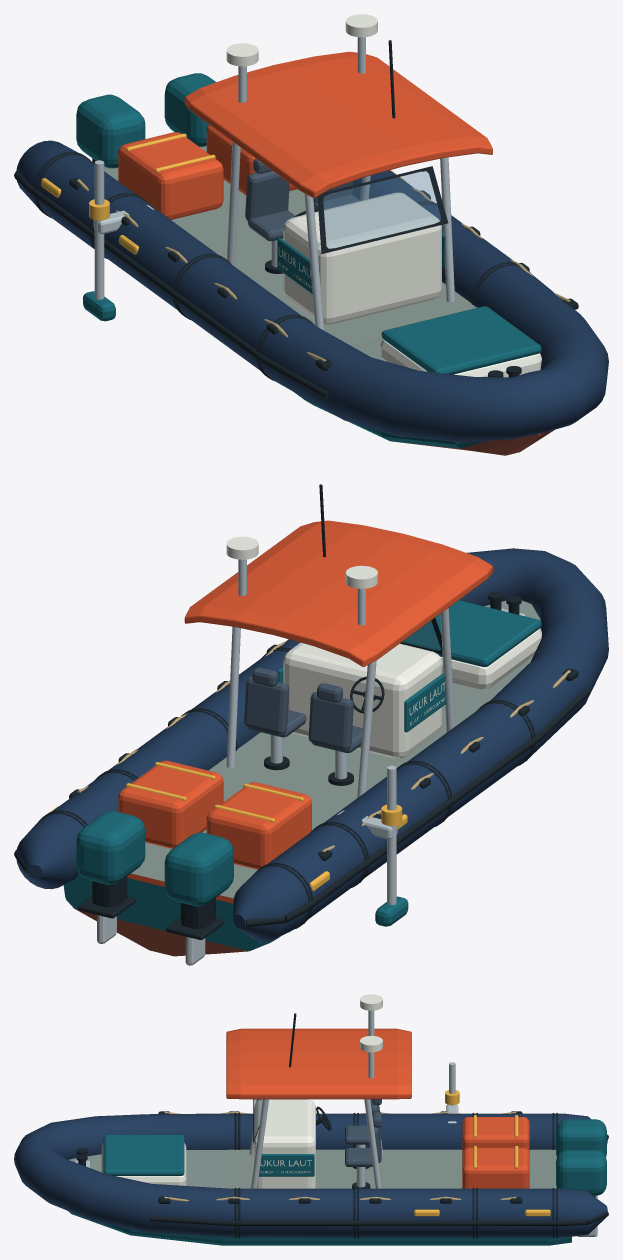
The picture shows the model from 3 angles, top to bottom: view 1: azimuth 30°, elevation 25°; view 2: azimuth 150°, elevation 25°; view 3: azimuth 270°, elevation 25°; orthographic projection. The views are drawn at different scales.
Parts seen in each view (by area): view 1: Kukup Hydrographic Survey RIB; view 2: Kukup Hydrographic Survey RIB; view 3: Kukup Hydrographic Survey RIB.
Part boxes in pixels (x1,y1,x2,y2): Kukup Hydrographic Survey RIB: (14,14,608,455); Kukup Hydrographic Survey RIB: (14,484,608,965); Kukup Hydrographic Survey RIB: (14,994,608,1245).
Size of the model in its own units: 3.08 by 3.19 by 7.51.
